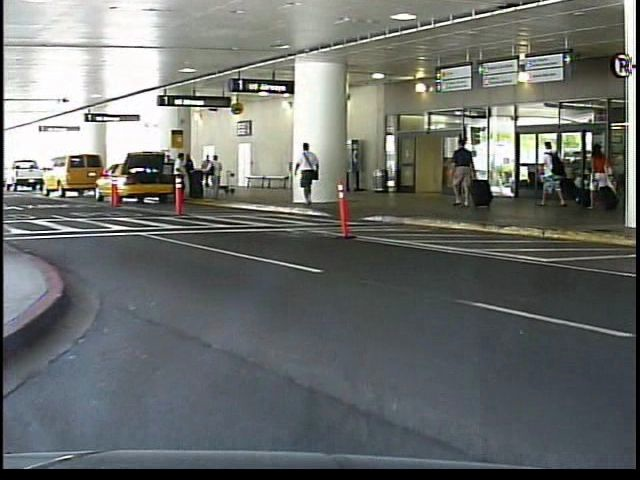person: (536, 138, 573, 217), (586, 133, 618, 220), (449, 134, 479, 210), (296, 140, 327, 211)
